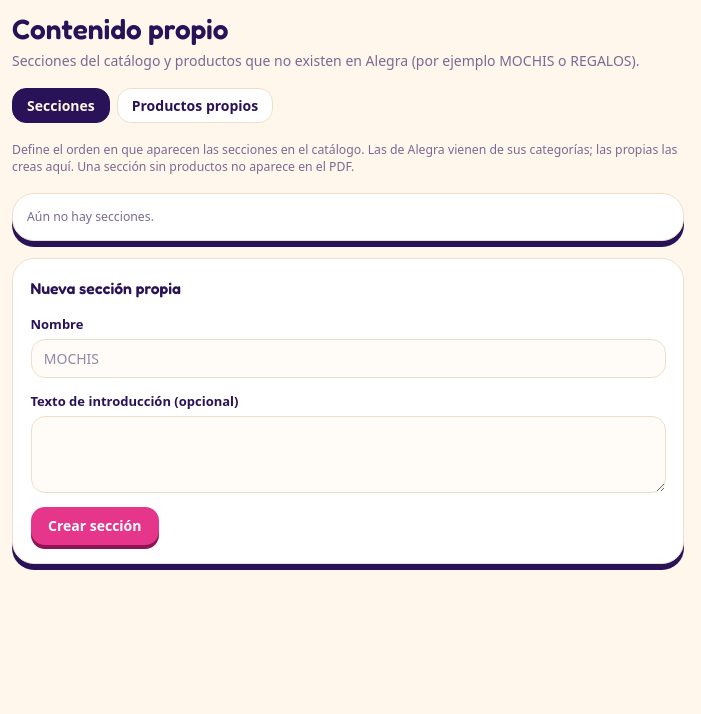
it: Contenido propio › se puede cambiar entre las dos pestañas
The width and height of the screenshot is (701, 714).
Expected: the list named "Orden de secciones" is shown, [27,208,154,225]
Click the tab "Productos propios" at (195, 106), box [117,88,273,123]
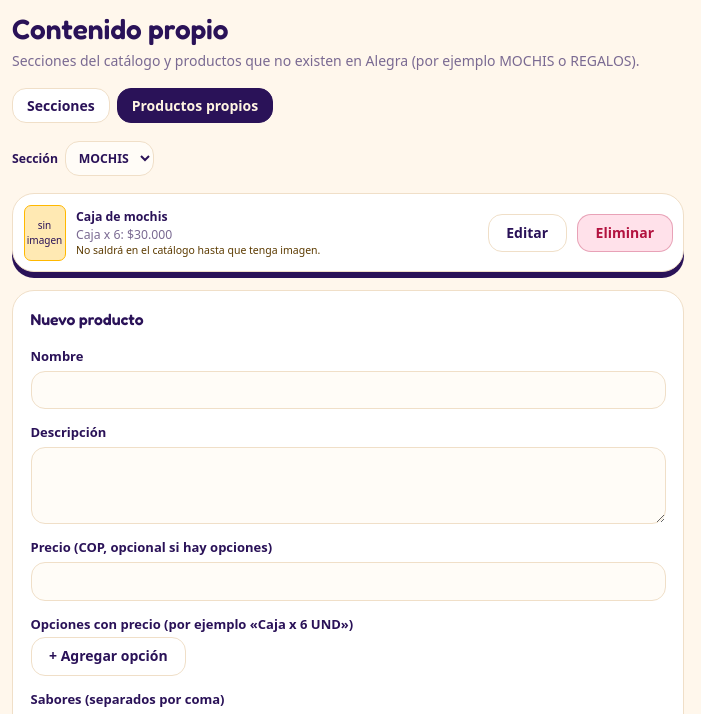
Expected: the text "Caja de mochis" is shown, [76,208,168,225]
Click the tab "Secciones" at (61, 106), box [12,88,110,123]
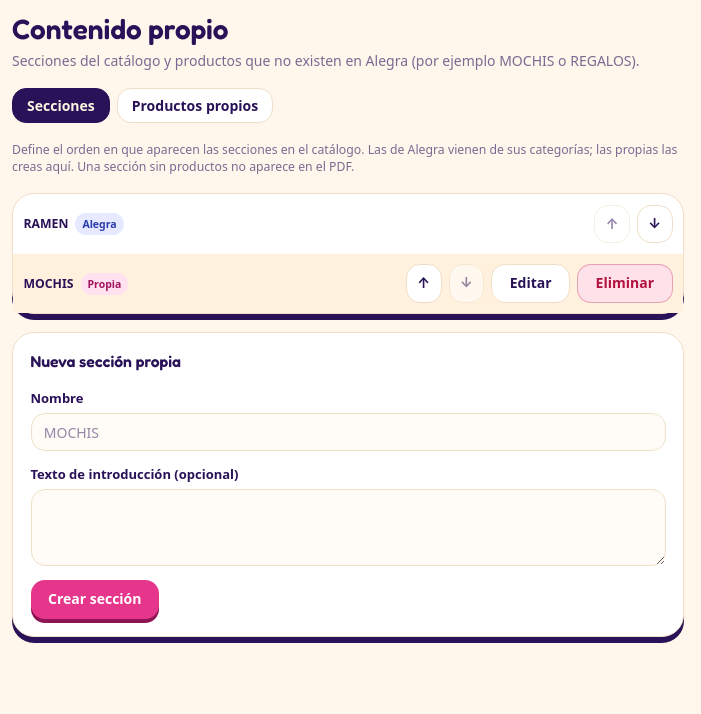
Expected: the list named "Orden de secciones" is shown, [13,194,683,313]
